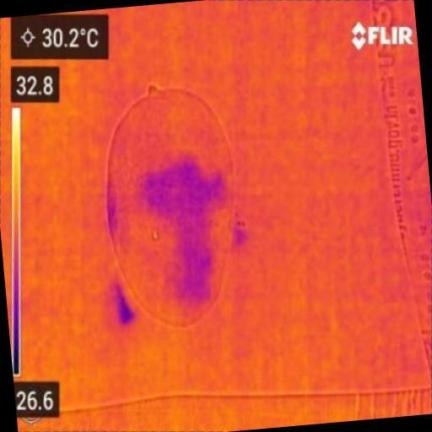mango: (106, 87, 232, 325)
